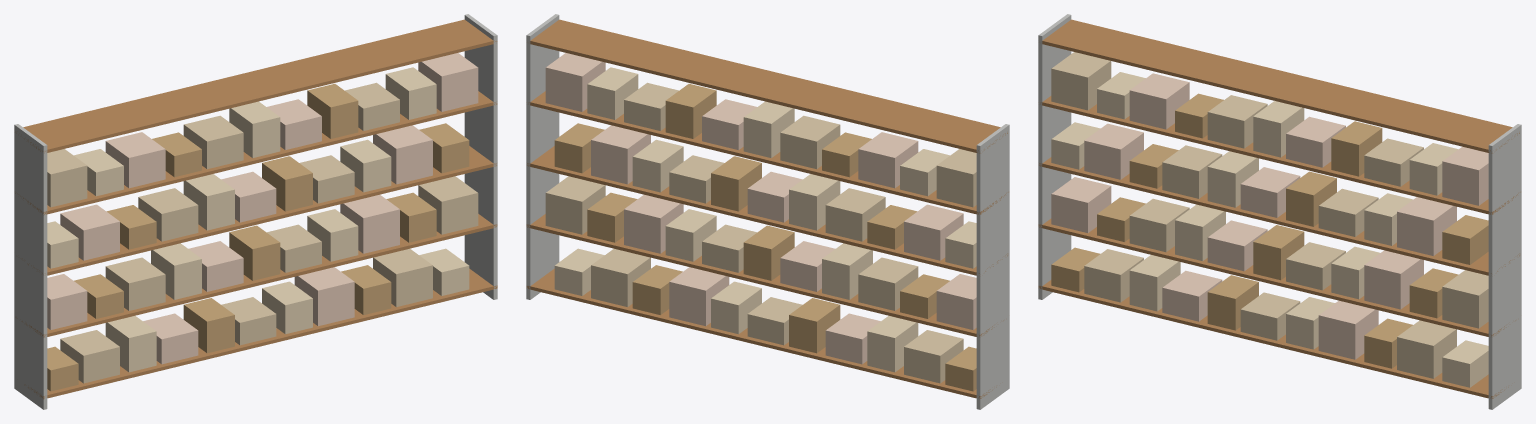
The model's file is estante_deposito_360.obj.
3 views of the same model, side by side, from view 1: azimuth 30°, elevation 25°; view 2: azimuth 150°, elevation 25°; view 3: azimuth 330°, elevation 25° (orthographic).
Visible parts, largest first — view 1: estante_deposito_360; view 2: estante_deposito_360; view 3: estante_deposito_360.
Part boxes in pixels (x1=…): estante_deposito_360: x1=14, y1=14, x2=497, y2=409; estante_deposito_360: x1=526, y1=14, x2=1009, y2=409; estante_deposito_360: x1=1038, y1=14, x2=1521, y2=409.
Size of the model in its own units: 3.6 by 2 by 0.4.
